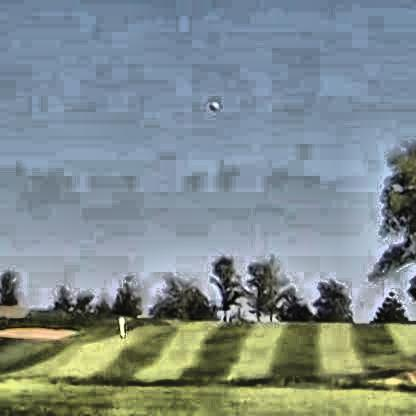golfball: (206, 99, 216, 110)
